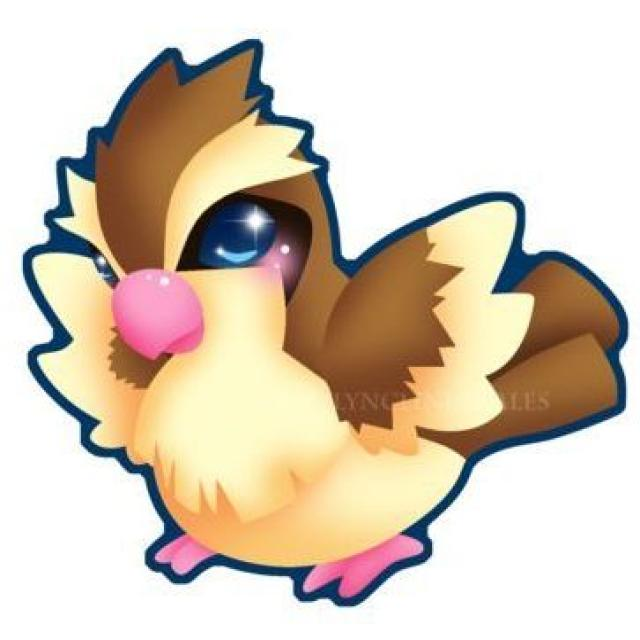Pidgey: (45, 46, 567, 586)
